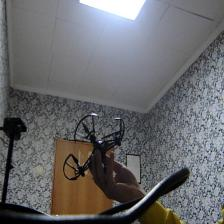drone: (61, 108, 128, 192)
